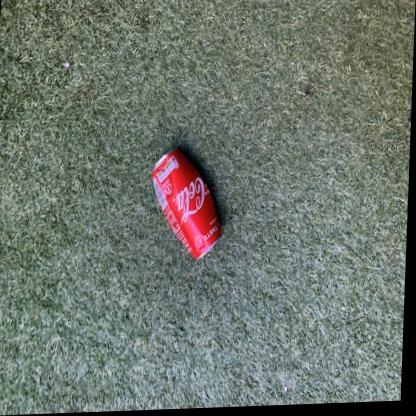trash: (152, 149, 220, 258)
